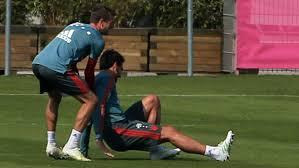bending: (93, 50, 237, 162), (31, 4, 119, 158)
